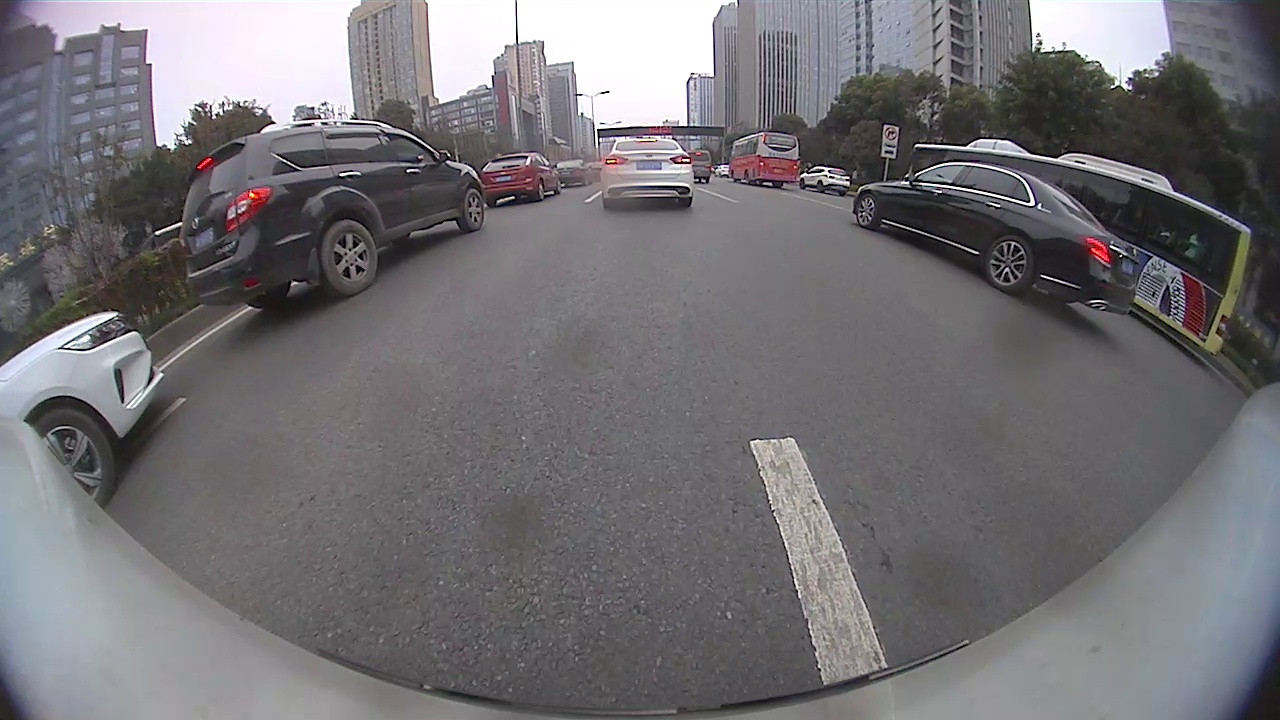bus: (903, 137, 1253, 359), (726, 129, 803, 190)
car: (178, 117, 486, 314), (851, 159, 1143, 318), (1, 309, 167, 511), (599, 136, 696, 212), (477, 151, 564, 208)
front: (24, 406, 115, 515), (462, 188, 488, 234), (855, 195, 879, 231)
rear: (318, 218, 380, 294), (983, 234, 1034, 298), (536, 179, 548, 204)
